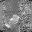people: (10, 15, 20, 25)
